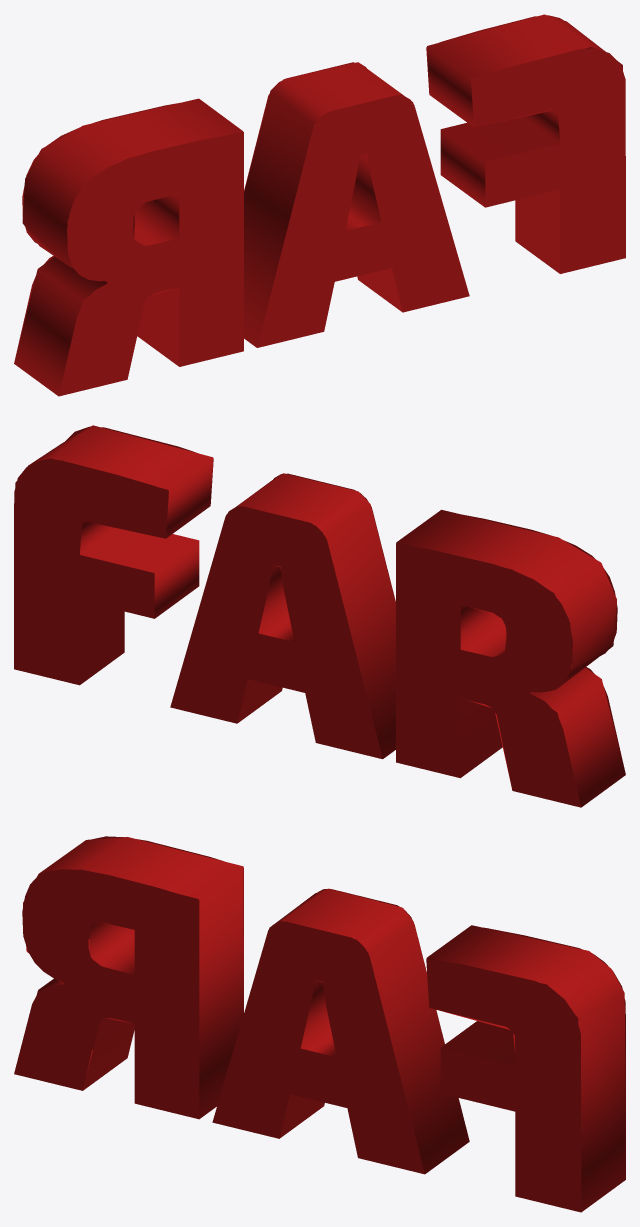
File: far.fbx
3 renders of one model, top to bottom at view 1: azimuth 30°, elevation 25°; view 2: azimuth 150°, elevation 25°; view 3: azimuth 330°, elevation 25°, orthographic.
Visible parts, largest first — view 1: Text; view 2: Text; view 3: Text.
Boxes of the visible parts, box(x1,y1,x2,y2) form: Text: box(14, 14, 625, 396); Text: box(14, 425, 625, 807); Text: box(14, 836, 625, 1212).
Size of the model in its own units: 5.86 by 2.19 by 0.8.
